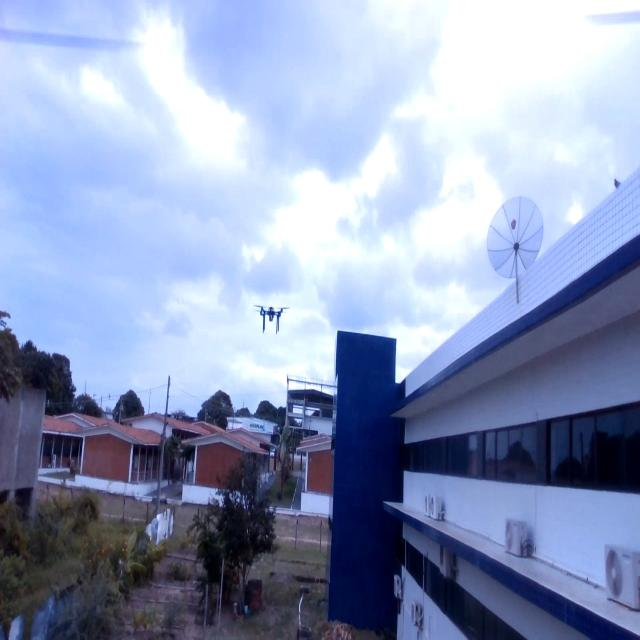-uav-: (253, 286, 286, 347)
